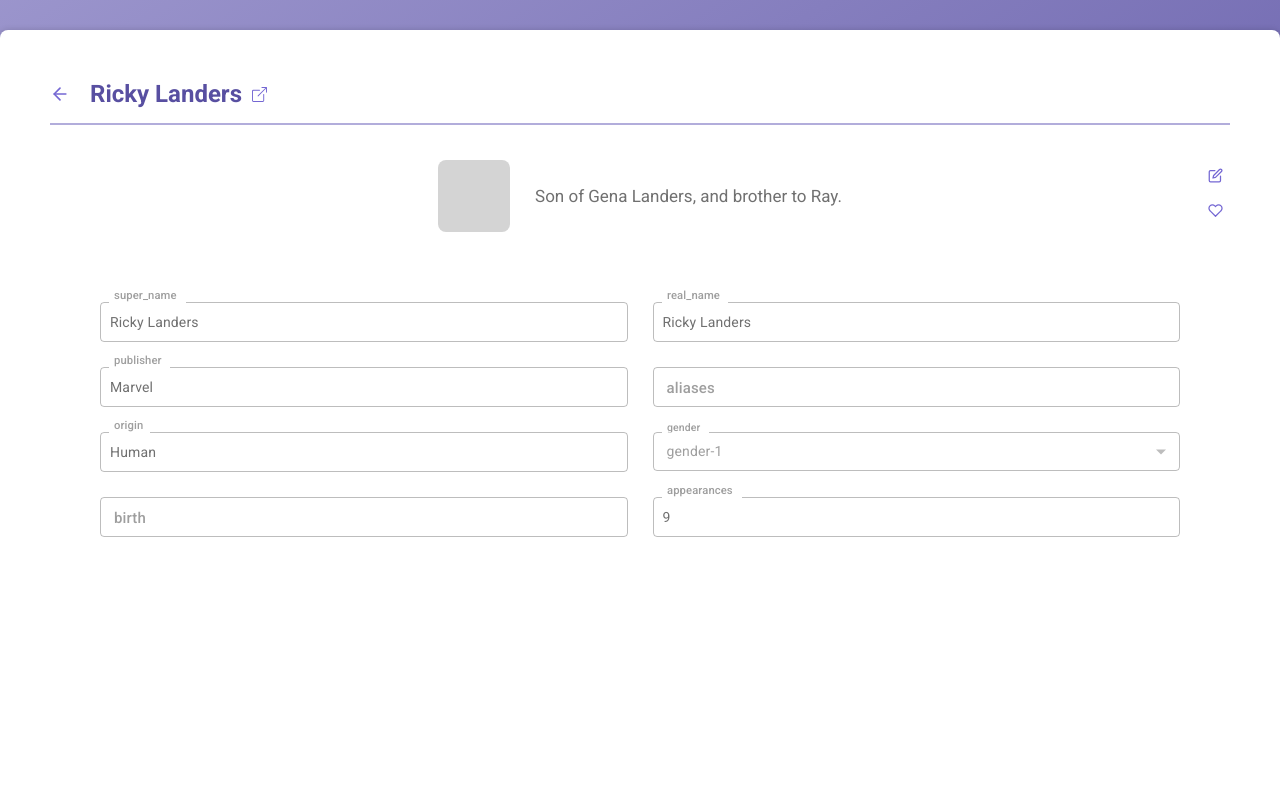
Test: CharacterInfo › should be able to cancel edit
Step 1. Click the button with test id "edit-button" → {"x": 1215, "y": 175}, box [1208,168,1222,182]
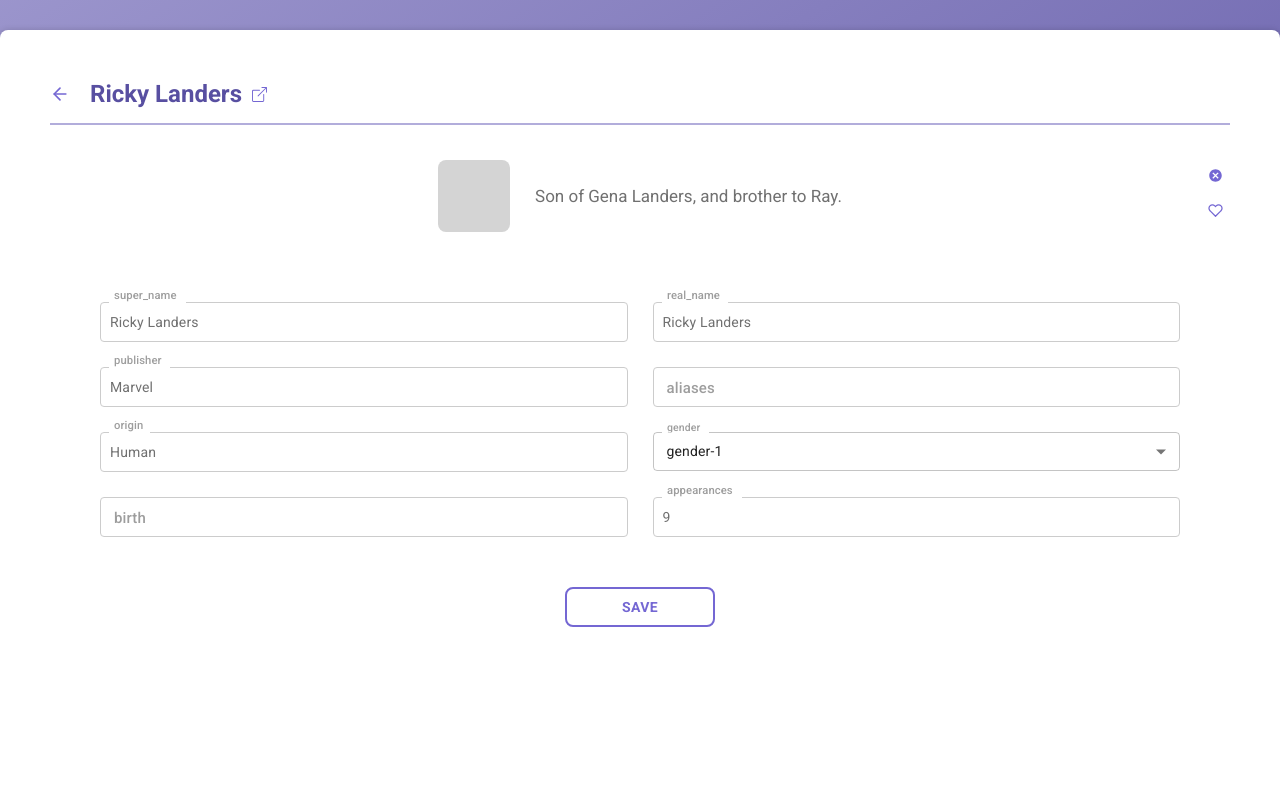
Step 2. Replace the text in the field with test id "name-input" with "Test Name" → {"x": 364, "y": 322}, box [100,302,628,342]
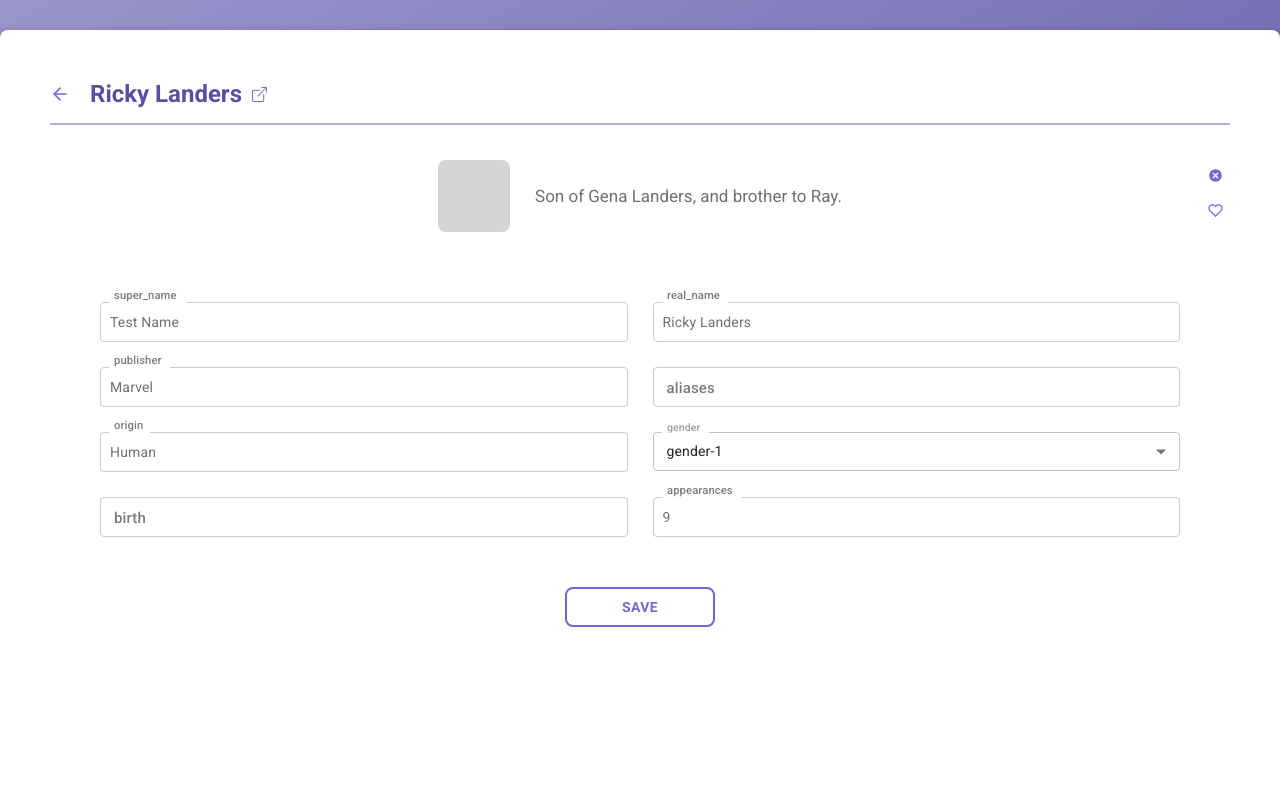
Step 3. Click the button with test id "cancel-button" → {"x": 1215, "y": 175}, box [1208,168,1222,182]
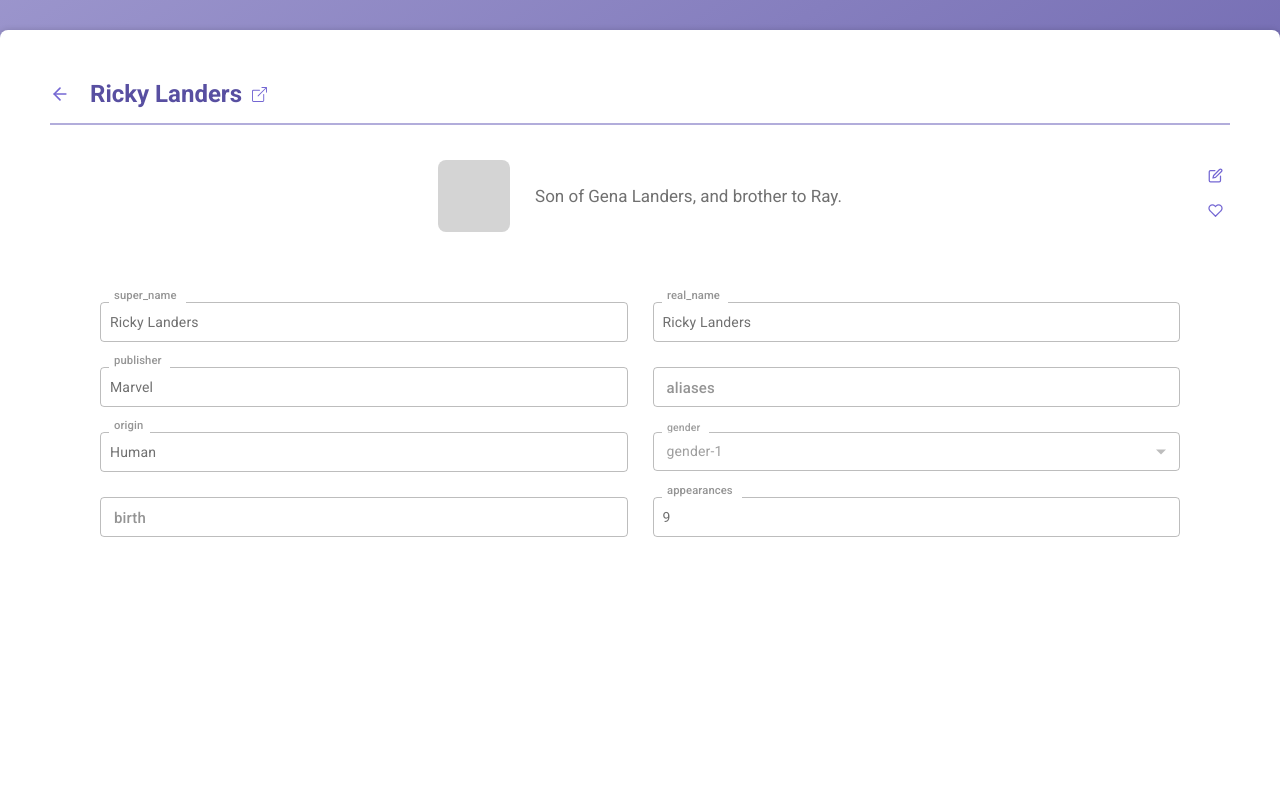
Now the field with test id "name-input" holds "Ricky Landers", box [100,302,628,342]
